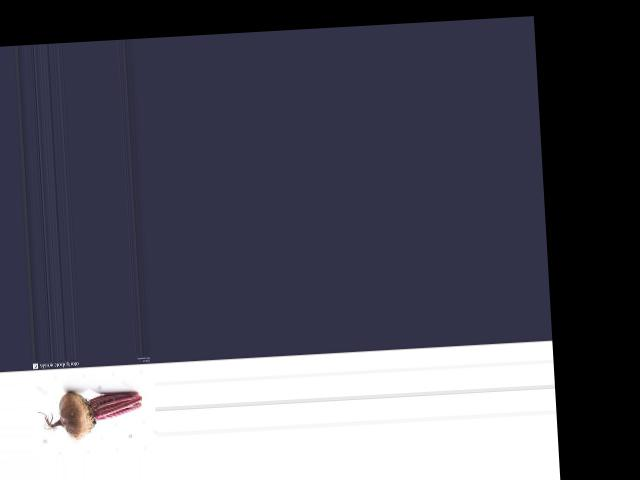beet: (37, 387, 144, 441)
